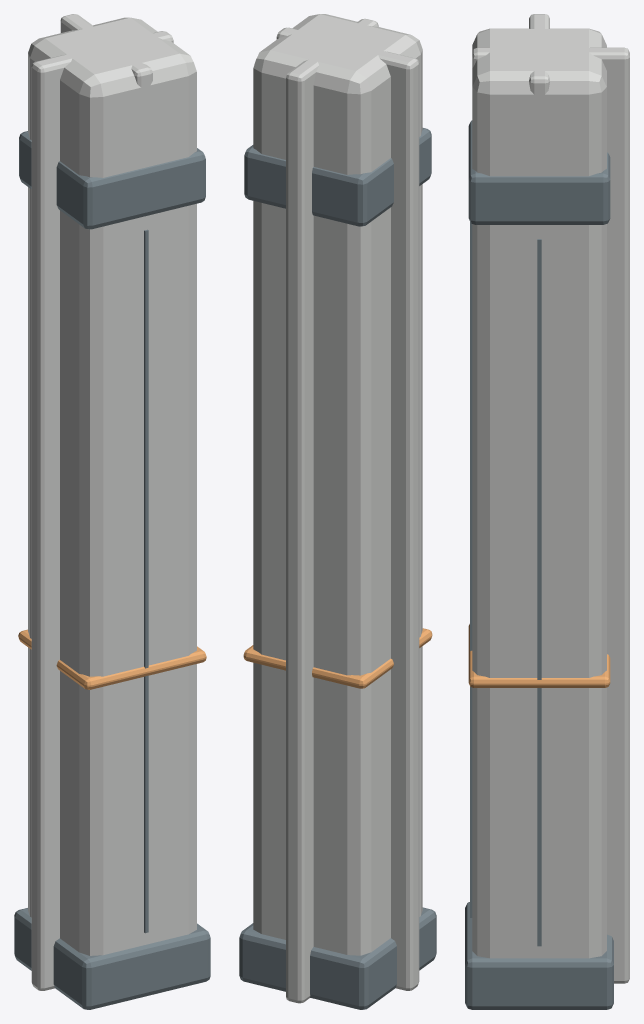
The model's file is mh_corner_post.glb.
3 renders of one model, left to right at view 1: azimuth 30°, elevation 25°; view 2: azimuth 150°, elevation 25°; view 3: azimuth 270°, elevation 25°, orthographic.
Visible parts, largest first — view 1: mh_corner_post; view 2: mh_corner_post; view 3: mh_corner_post.
Part boxes in pixels (left/top/right/bottom): mh_corner_post: left=14, top=14, right=210, bottom=1009; mh_corner_post: left=239, top=14, right=436, bottom=1009; mh_corner_post: left=465, top=14, right=629, bottom=1009.
Bounding box in the file's own units: 0.465 × 2.9 × 0.465.
